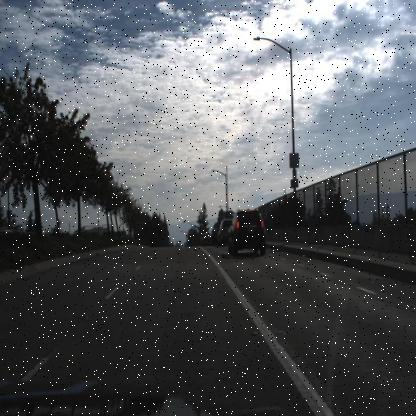car: (227, 207, 269, 258), (216, 216, 234, 246), (208, 226, 219, 244), (212, 225, 219, 245), (201, 234, 209, 245)
